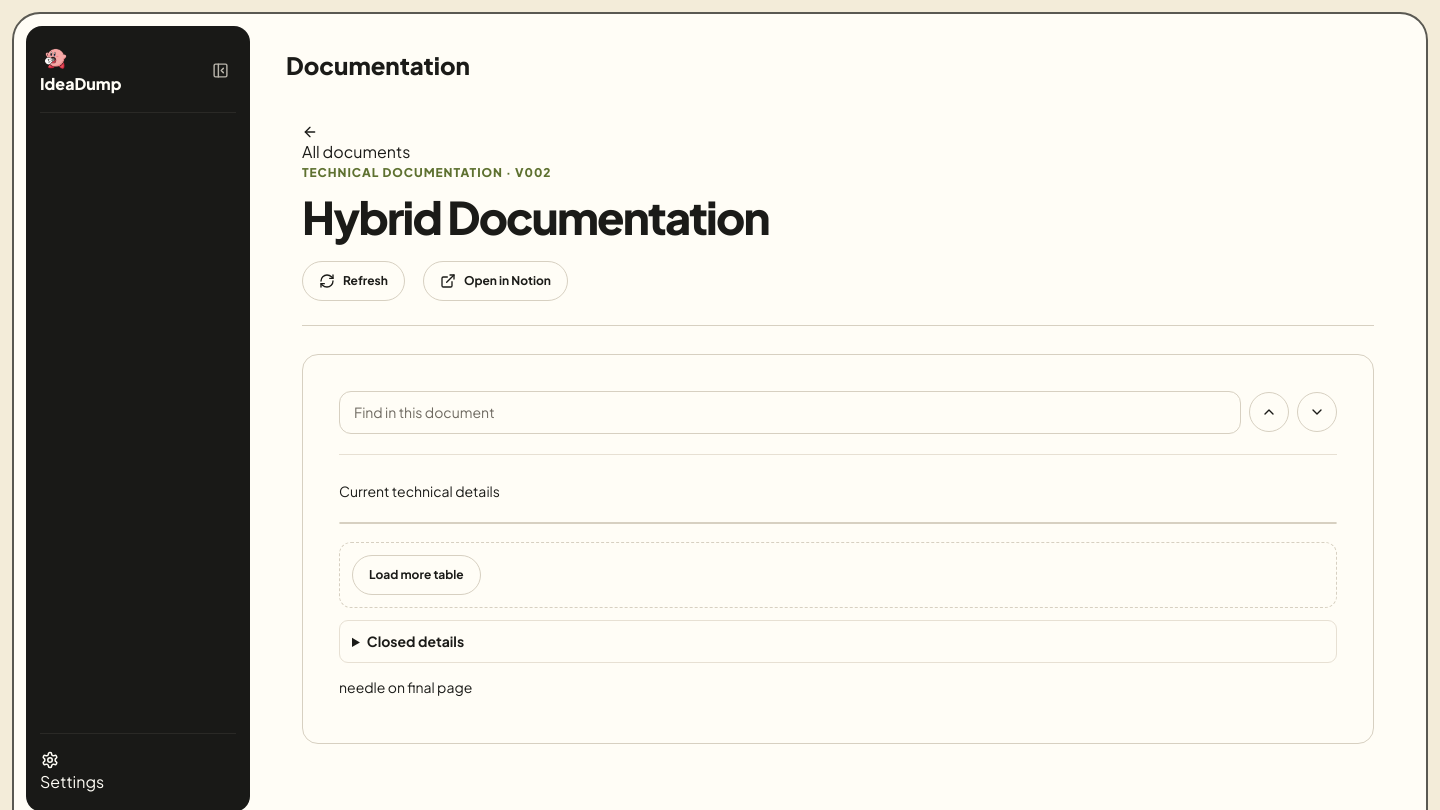
Test: documentation reader refresh › shows metadata and initial text early, then searches unloaded pages and retries a failed table
Expected: the heading "Hybrid Documentation" is shown, [302, 188, 769, 245]
Expected: the text "Current technical details" is shown, [339, 482, 500, 500]
Type "needle" into the field labelled "Find in this document".
click(790, 412); type("needle")  # box [339, 391, 1241, 434]
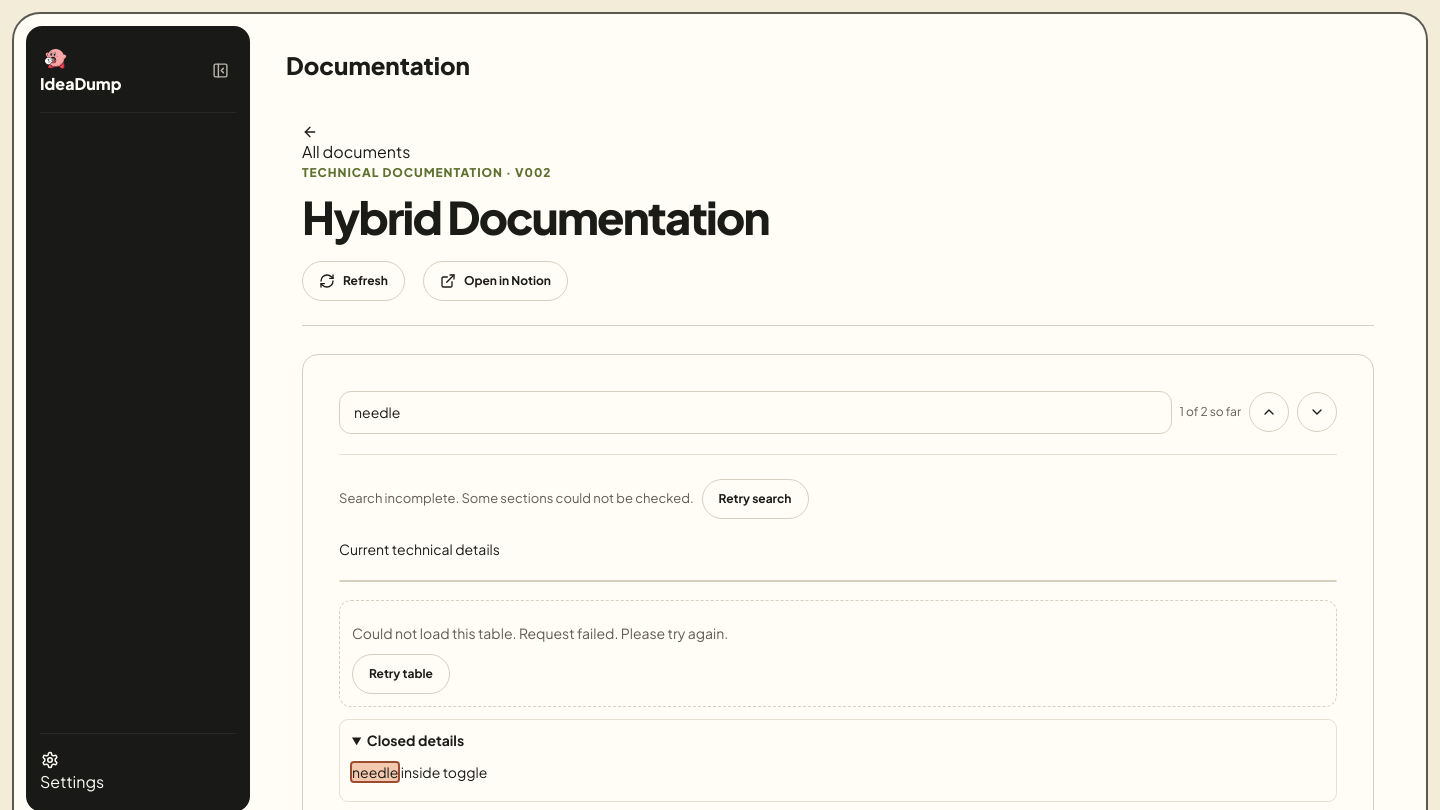
Expected: the text "Current technical details" is shown, [339, 540, 500, 558]
Now the text "Search incomplete. Some sections could not be checked." is shown, box [339, 490, 694, 506]
Now the text "needle inside toggle" is shown, box [352, 764, 487, 782]
Click the button "Retry table".
click(401, 674)  # box [352, 654, 450, 694]
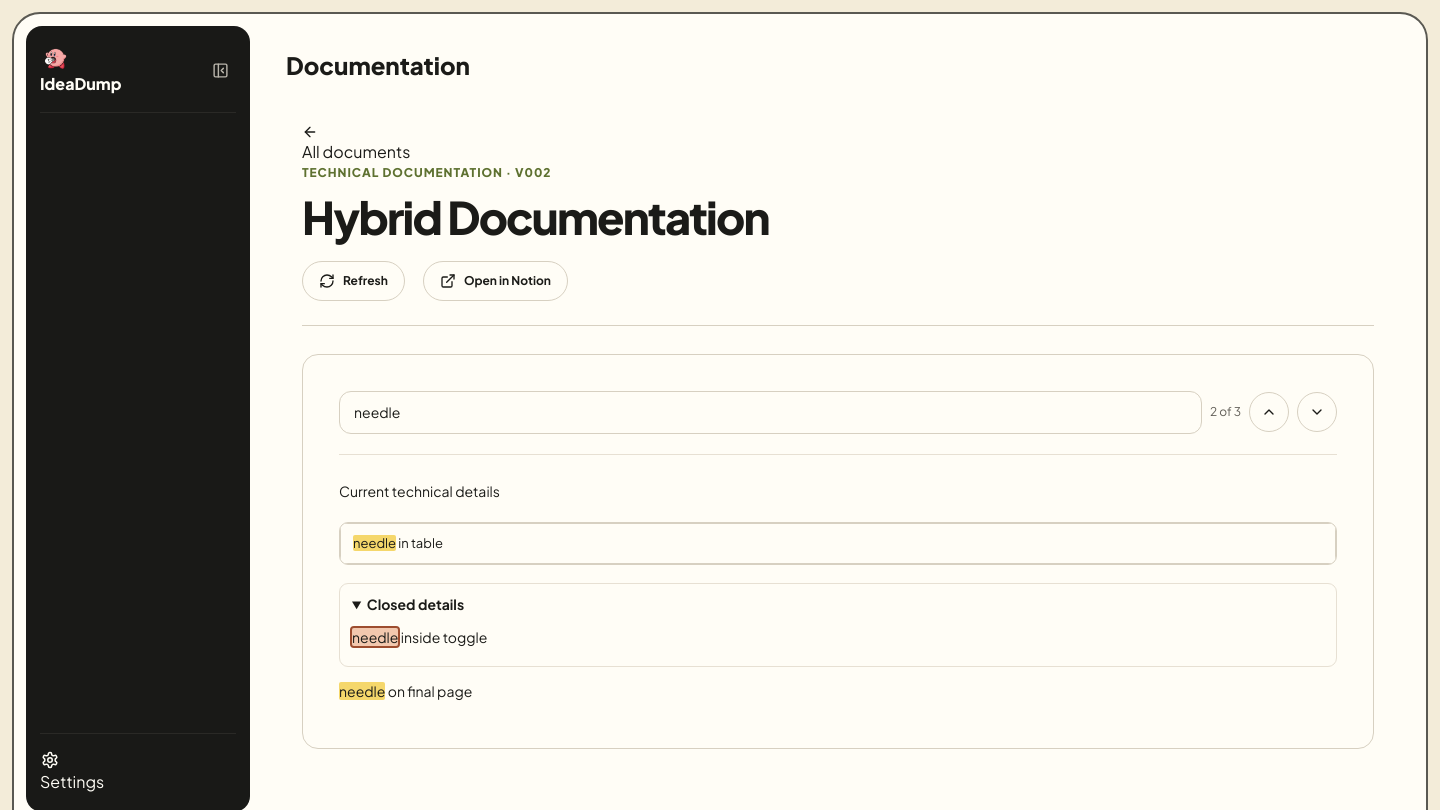
Now the text "Search incomplete. Some sections could not be checked." is gone
Now the text "2 of 3" is shown, box [1210, 403, 1241, 421]
